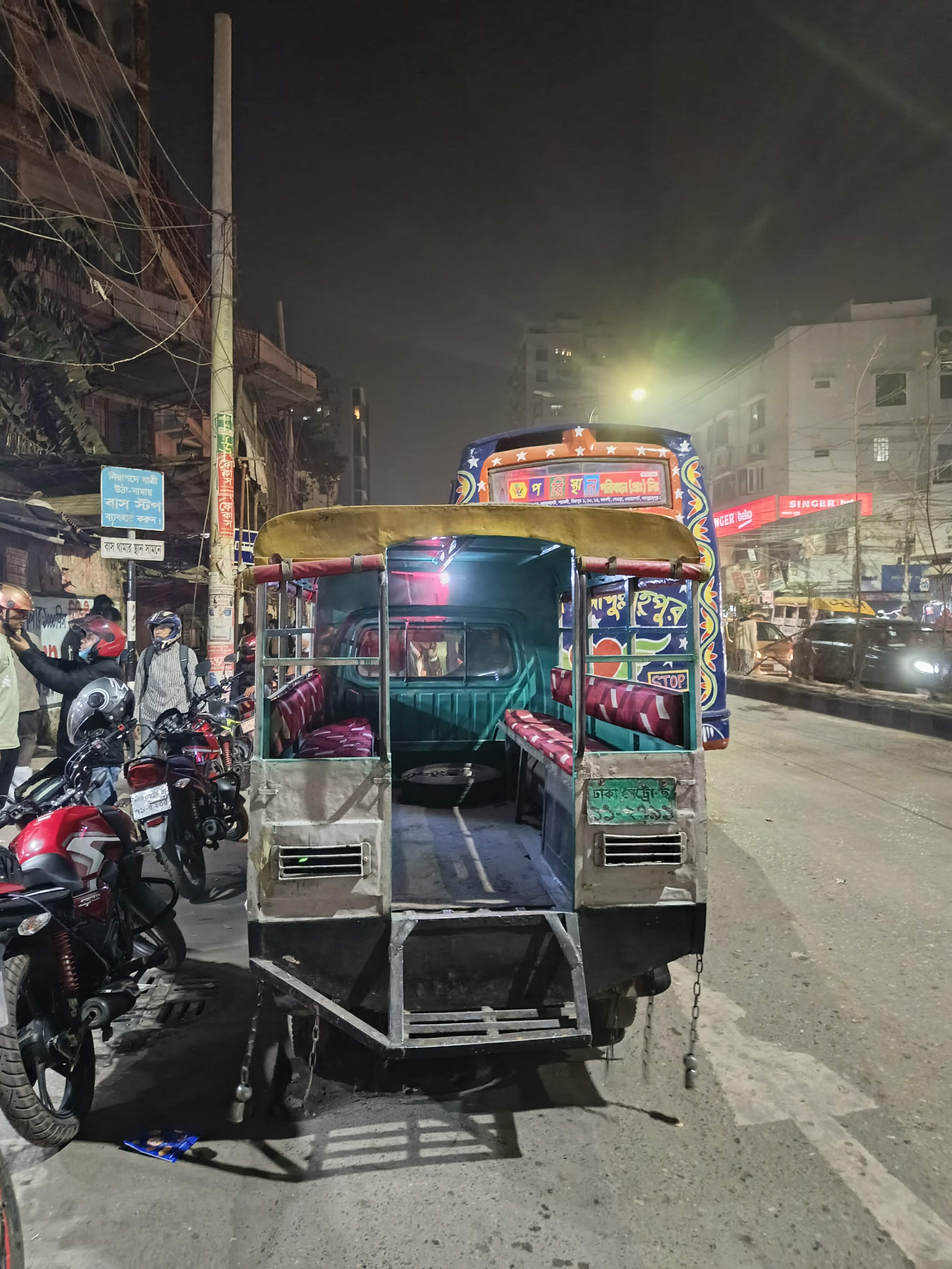Leguna: (225, 482, 731, 1080)
